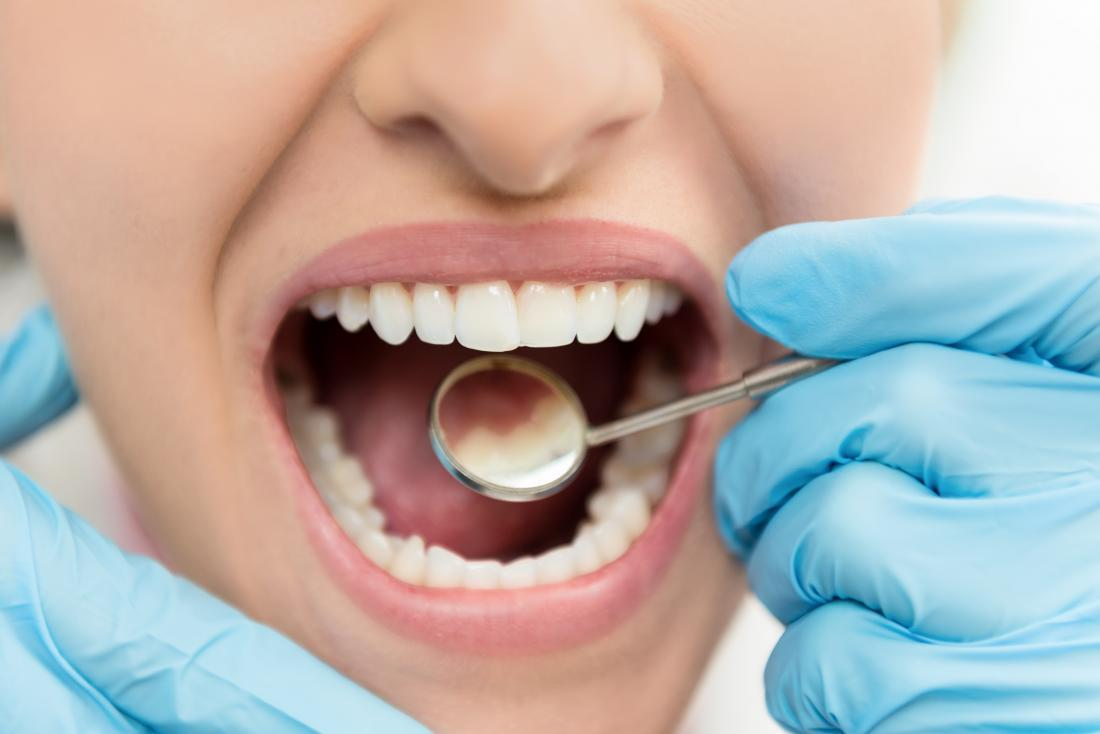normal: (453, 277, 515, 351), (515, 280, 576, 348), (603, 452, 669, 508), (593, 486, 654, 543), (455, 427, 514, 482), (291, 407, 342, 466), (318, 457, 374, 509), (531, 396, 578, 457), (369, 282, 414, 344), (411, 281, 454, 344), (577, 281, 616, 345), (331, 493, 386, 538), (611, 278, 649, 340), (508, 427, 556, 476), (579, 523, 629, 568), (359, 526, 409, 566), (425, 543, 467, 589), (392, 532, 424, 588), (536, 547, 580, 587), (335, 284, 368, 330), (465, 556, 501, 592), (503, 557, 536, 596)
